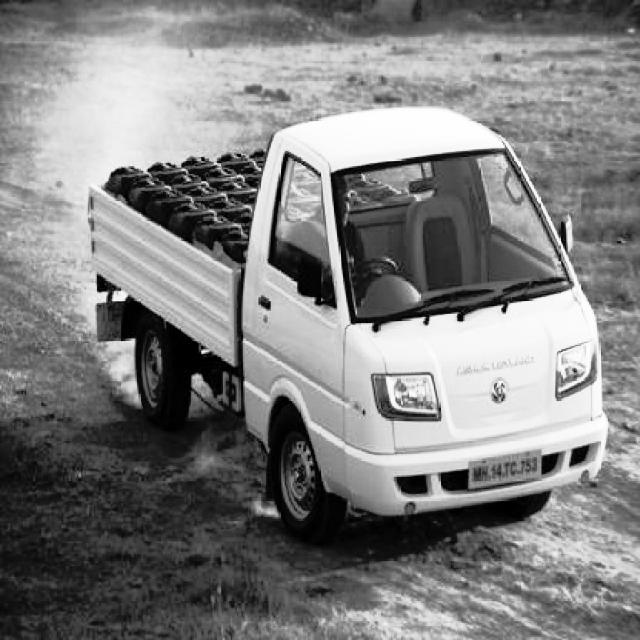LCV: (57, 70, 603, 544)
